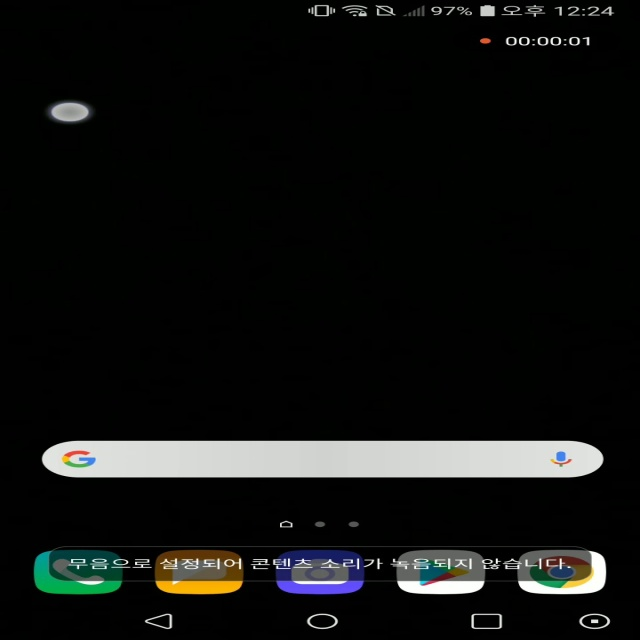Cursor: (49, 101, 94, 124)
